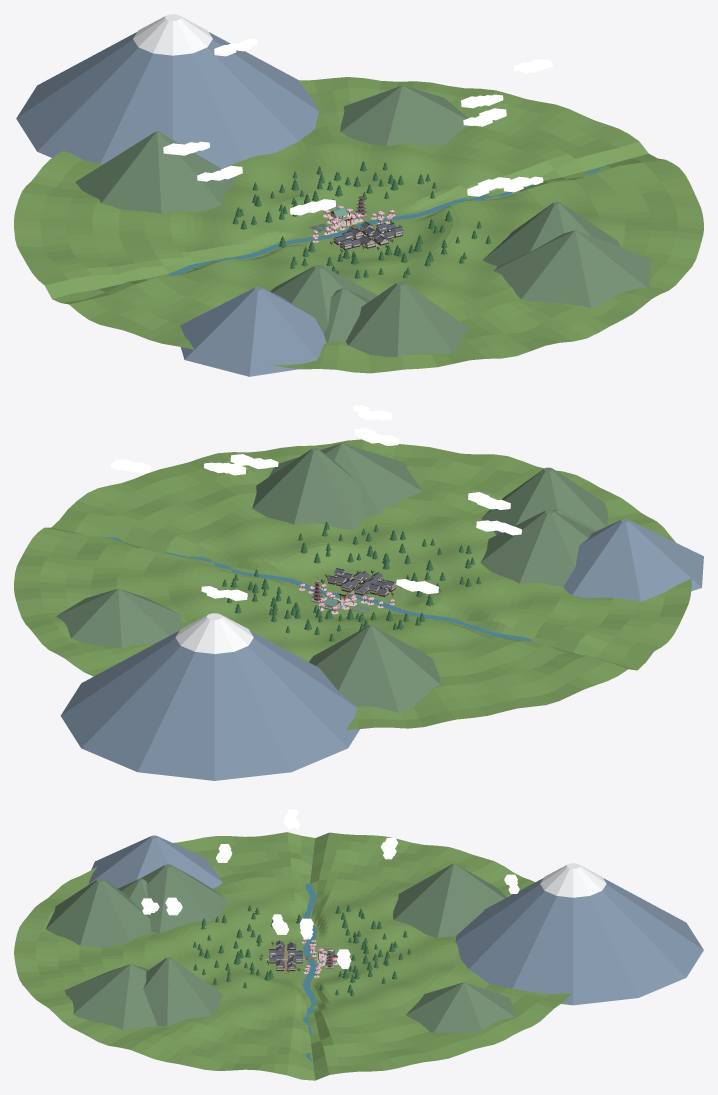
Rendered from village_vr.glb.
3 renders of one model, top to bottom at view 1: azimuth 30°, elevation 25°; view 2: azimuth 150°, elevation 25°; view 3: azimuth 270°, elevation 25°, orthographic. The views are drawn at different scales.
Visible parts, largest first — view 1: VR_Village_Grass, VR_Village_FarMountain, VR_Village_Mountain, VR_Village_Cloud, VR_Village_Pine, VR_Village_Snow, VR_Village_Water, VR_Village_RoofTile; view 2: VR_Village_Grass, VR_Village_FarMountain, VR_Village_Mountain, VR_Village_Cloud, VR_Village_Pine, VR_Village_Snow, VR_Village_Water, VR_Village_RoofTile; view 3: VR_Village_Grass, VR_Village_Mountain, VR_Village_FarMountain, VR_Village_Pine, VR_Village_Cloud, VR_Village_Snow, VR_Village_Water, VR_Village_RoofTile.
Boxes of the visible parts, <box> form: VR_Village_Grass: <box>14,77,703,373</box>; VR_Village_FarMountain: <box>16,32,326,376</box>; VR_Village_Mountain: <box>75,85,652,357</box>; VR_Village_Cloud: <box>163,38,552,215</box>; VR_Village_Pine: <box>232,161,491,278</box>; VR_Village_Snow: <box>133,14,212,55</box>; VR_Village_Water: <box>86,158,632,297</box>; VR_Village_RoofTile: <box>333,196,403,245</box>; VR_Village_Grass: <box>14,439,691,729</box>; VR_Village_FarMountain: <box>60,519,703,780</box>; VR_Village_Mountain: <box>56,443,608,712</box>; VR_Village_Cloud: <box>110,405,521,600</box>; VR_Village_Pine: <box>222,521,480,641</box>; VR_Village_Snow: <box>175,613,253,653</box>; VR_Village_Water: <box>68,531,605,658</box>; VR_Village_RoofTile: <box>311,568,395,599</box>; VR_Village_Grass: <box>14,832,571,1080</box>; VR_Village_Mountain: <box>46,863,514,1032</box>; VR_Village_FarMountain: <box>89,835,703,1005</box>; VR_Village_Pine: <box>193,904,411,996</box>; VR_Village_Cloud: <box>141,809,519,968</box>; VR_Village_Snow: <box>540,863,606,897</box>; VR_Village_Water: <box>303,849,331,1073</box>; VR_Village_RoofTile: <box>269,940,333,968</box>.
Bounding box in the file's own units: 528 × 88.29 × 634.
